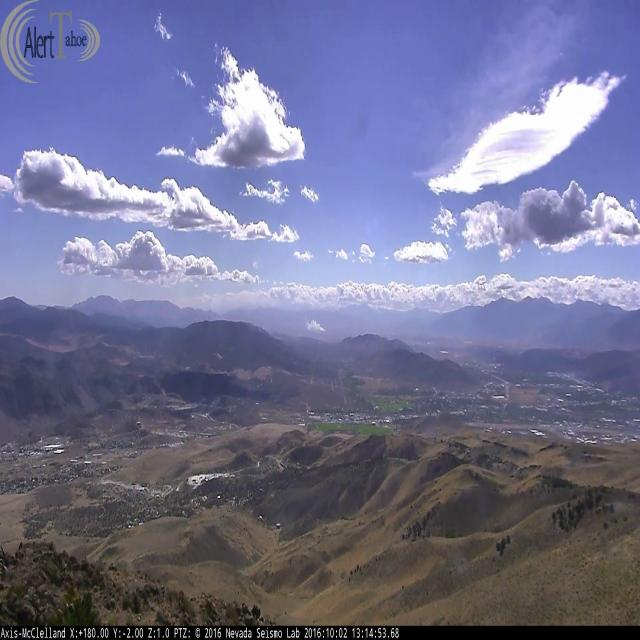smoke: (304, 314, 325, 332)
